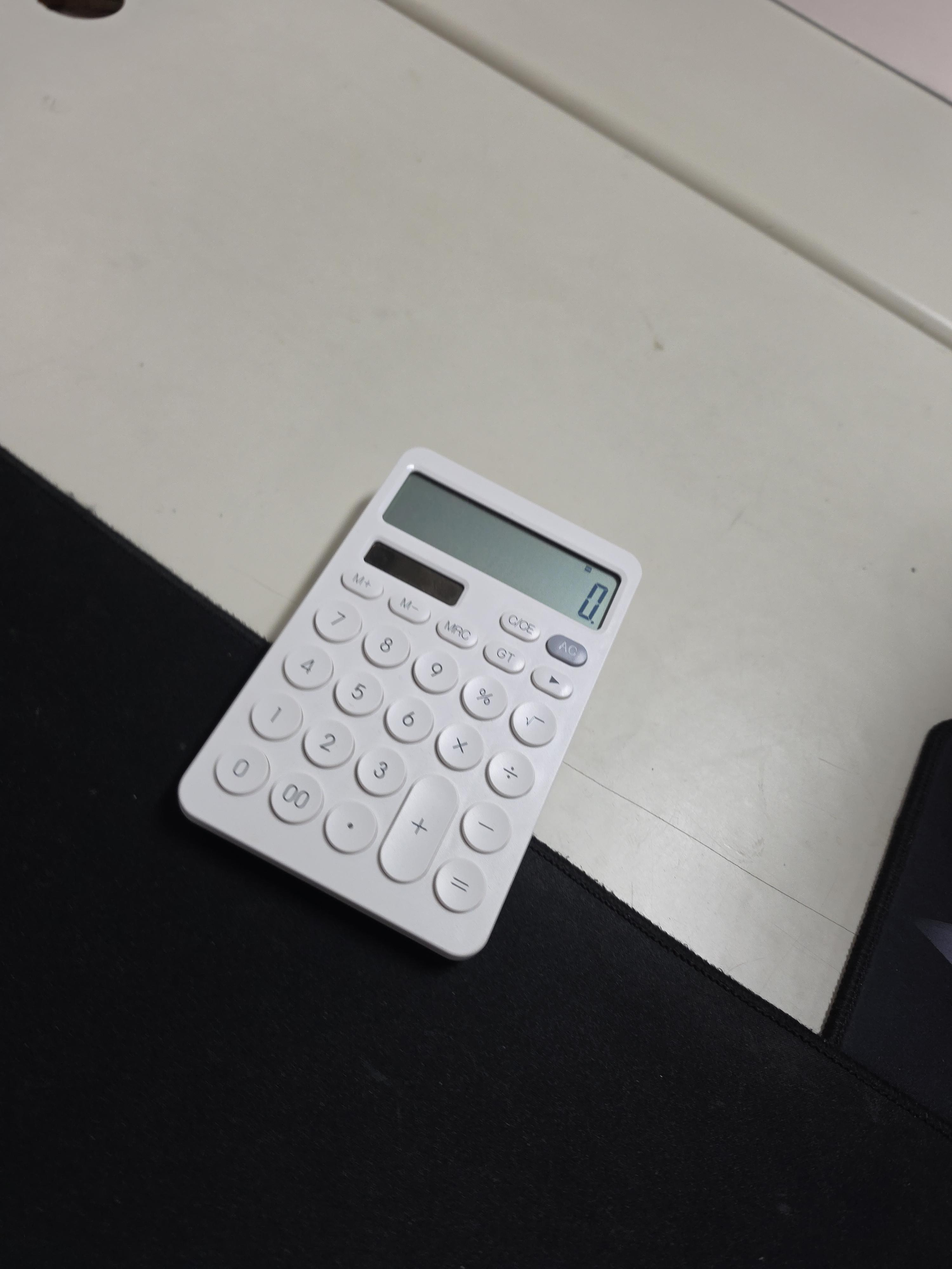calculator: (175, 445, 643, 960)
